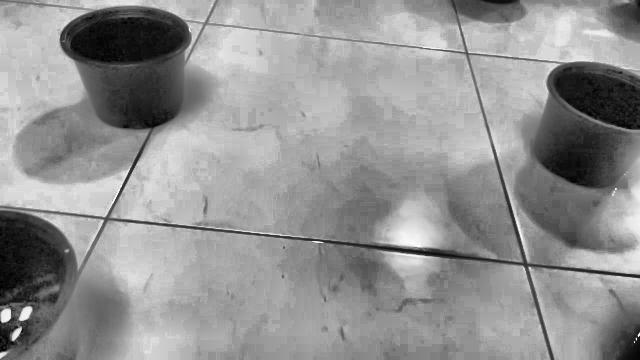pot: (60, 6, 191, 129), (533, 62, 640, 188), (0, 210, 78, 360)
